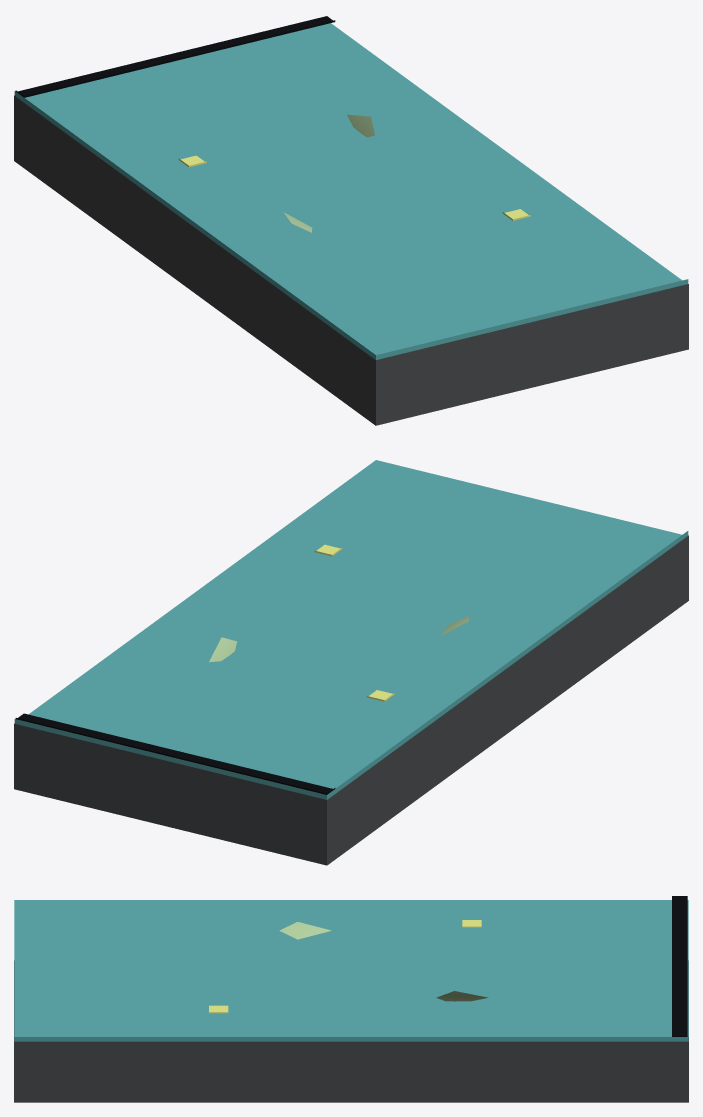
File: tt_climb_mat_300_14x28.glb
3 renders of one model, top to bottom at view 1: azimuth 30°, elevation 25°; view 2: azimuth 150°, elevation 25°; view 3: azimuth 270°, elevation 25°, orthographic. The views are drawn at different scales.
Visible parts, largest first — view 1: Mat_Cover, Mat_Core, Velcro_Seam_Flap; view 2: Mat_Cover, Mat_Core, Velcro_Seam_Flap; view 3: Mat_Cover, Mat_Core, Velcro_Seam_Flap, Leaf_Print, Ball_Dots.
Part boxes in pixels (x1=…): Mat_Cover: x1=14, y1=23, x2=688, y2=359; Mat_Core: x1=14, y1=95, x2=688, y2=425; Velcro_Seam_Flap: x1=15, y1=16, x2=335, y2=97; Mat_Cover: x1=14, y1=460, x2=688, y2=799; Mat_Core: x1=14, y1=535, x2=688, y2=865; Velcro_Seam_Flap: x1=15, y1=713, x2=335, y2=794; Mat_Cover: x1=14, y1=900, x2=688, y2=1041; Mat_Core: x1=14, y1=960, x2=688, y2=1102; Velcro_Seam_Flap: x1=672, y1=896, x2=687, y2=1036; Leaf_Print: x1=279, y1=922, x2=488, y2=1001; Ball_Dots: x1=209, y1=920, x2=481, y2=1013.
Size of what is drawn, in the model's own units: 1.4 by 0.3412 by 2.8.
5 materials, 1 textured.
